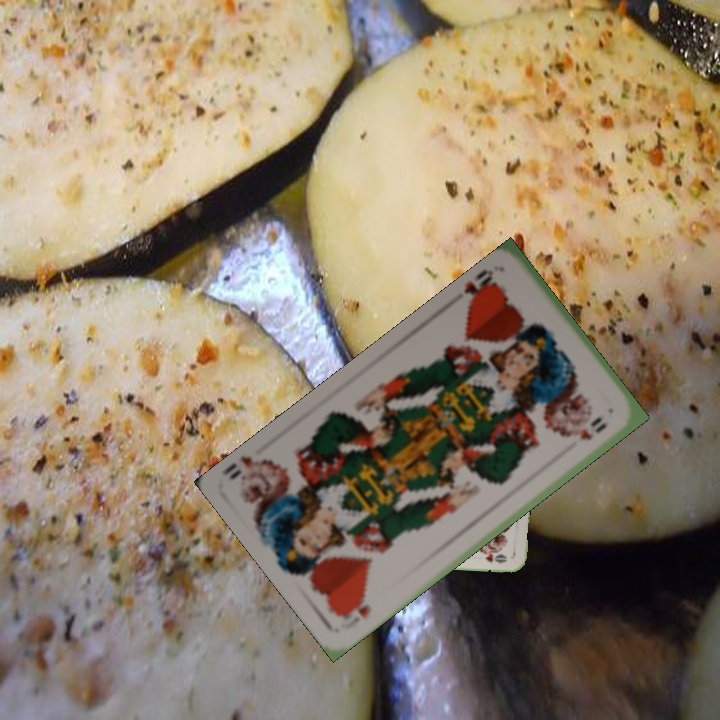HO: (459, 265, 500, 312), (334, 600, 374, 623)
